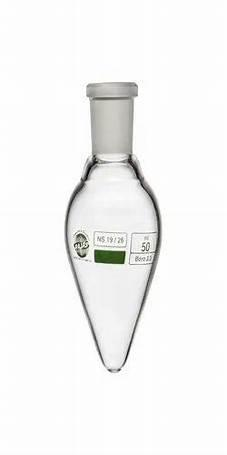Pear shaped flask: (52, 69, 170, 380)
